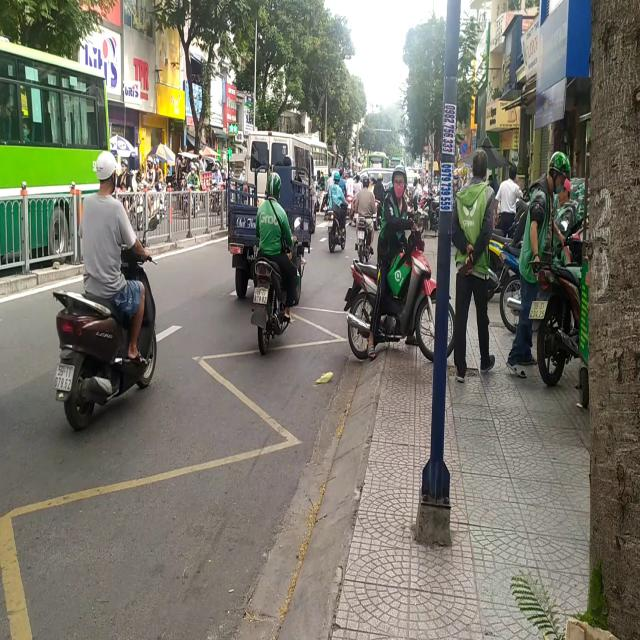bien_trang: (52, 358, 74, 396)
